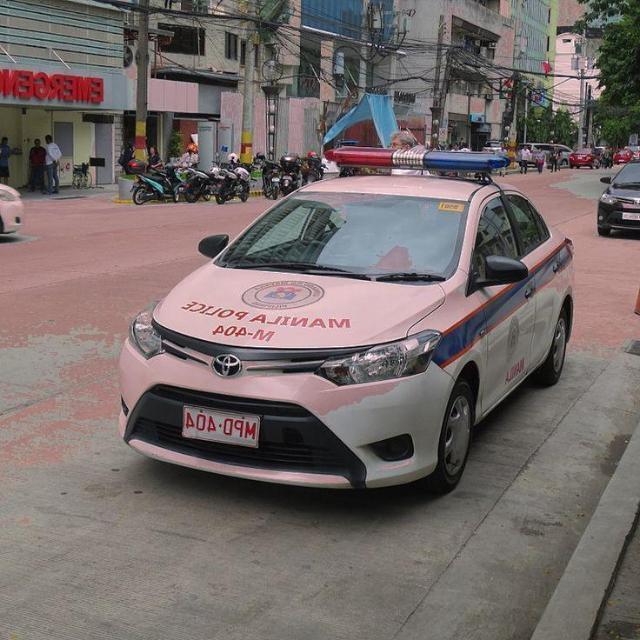police: (112, 150, 577, 504)
